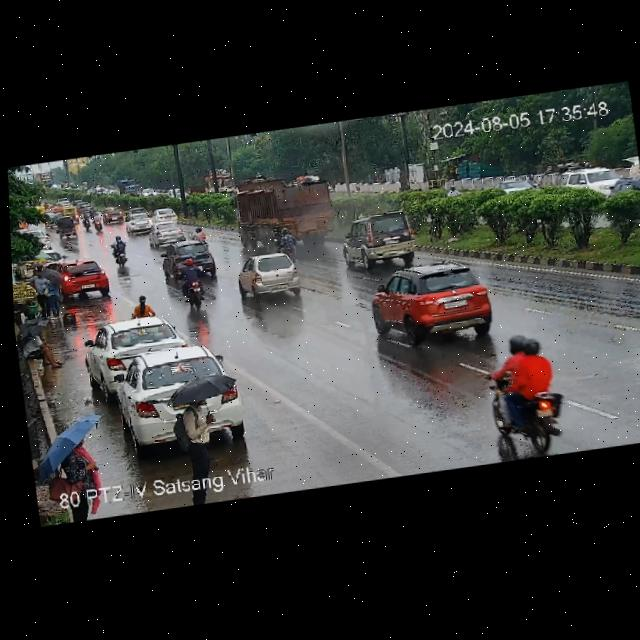car: (101, 341, 240, 459), (357, 253, 501, 348), (85, 313, 185, 381), (344, 210, 419, 268), (236, 249, 310, 300), (158, 238, 224, 278), (56, 255, 112, 298), (558, 162, 620, 200), (145, 219, 188, 247), (487, 176, 535, 198), (125, 215, 163, 235), (54, 212, 82, 239), (147, 205, 182, 223), (100, 204, 128, 224)
motorcycle: (493, 331, 562, 420), (178, 257, 213, 306), (110, 235, 136, 268), (78, 209, 100, 234), (89, 212, 107, 234), (524, 171, 546, 189)
person: (170, 391, 223, 475), (47, 438, 99, 497), (19, 320, 66, 370), (30, 265, 63, 319), (130, 293, 155, 319)
truck: (231, 178, 343, 252), (184, 168, 238, 201), (115, 177, 143, 199)
